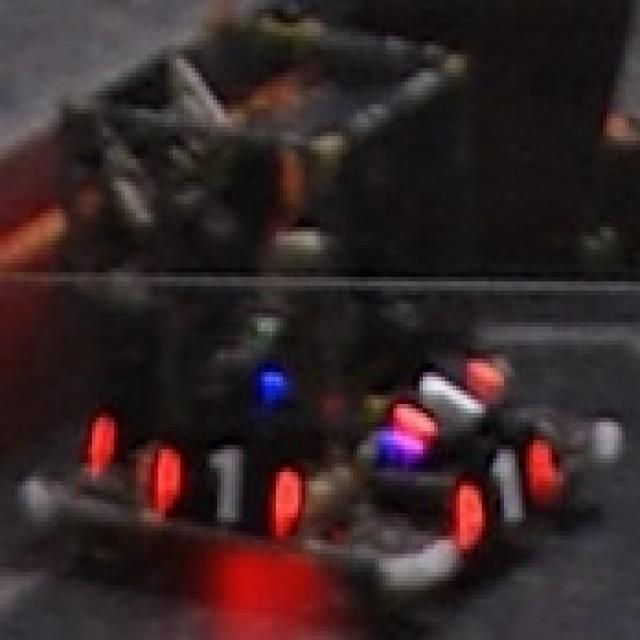R1: (130, 429, 300, 547), (443, 429, 565, 547), (383, 338, 500, 456)
